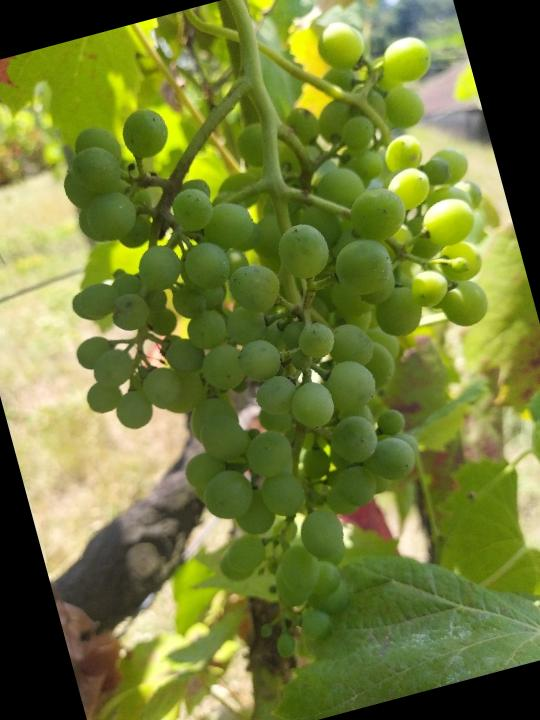grape: (7, 0, 540, 700)
